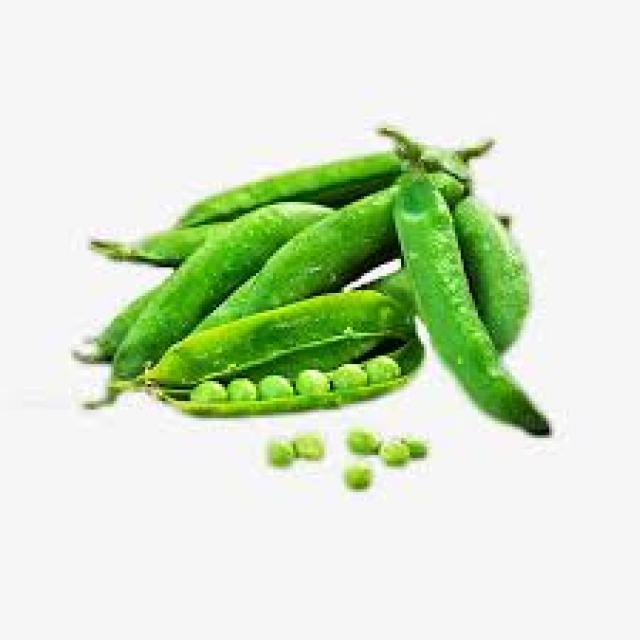organic waste: (91, 156, 472, 412), (378, 125, 549, 435), (105, 196, 330, 381), (108, 285, 410, 381), (174, 139, 489, 225), (151, 333, 421, 415), (449, 188, 529, 352), (71, 279, 162, 364), (85, 222, 242, 262), (347, 264, 418, 318), (293, 361, 327, 393), (327, 358, 364, 387), (362, 353, 396, 384), (342, 421, 376, 452), (188, 381, 225, 407), (378, 432, 404, 467), (256, 370, 287, 395), (225, 372, 253, 396), (293, 432, 321, 455), (341, 466, 370, 486), (270, 438, 284, 464), (407, 441, 421, 455)
